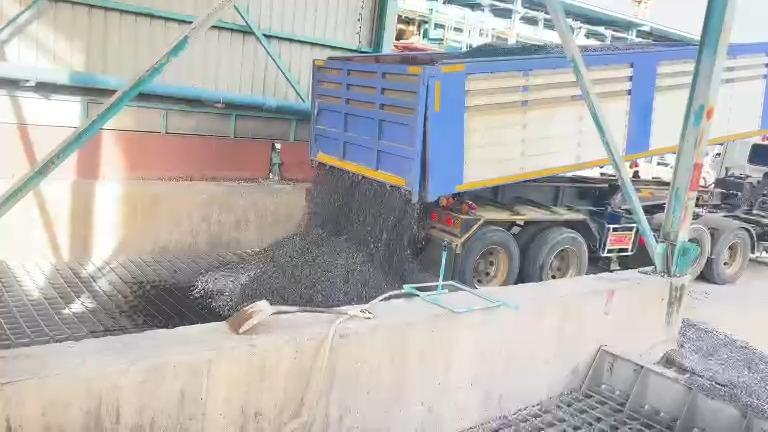gravel: (192, 168, 425, 315), (669, 319, 767, 417), (457, 42, 562, 58), (585, 44, 651, 50)
